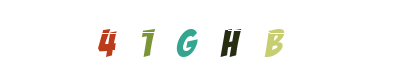1: (147, 0, 227, 80)
4: (86, 0, 166, 80)
B: (200, 0, 280, 80)
G: (157, 0, 237, 80)
H: (190, 0, 270, 80)
